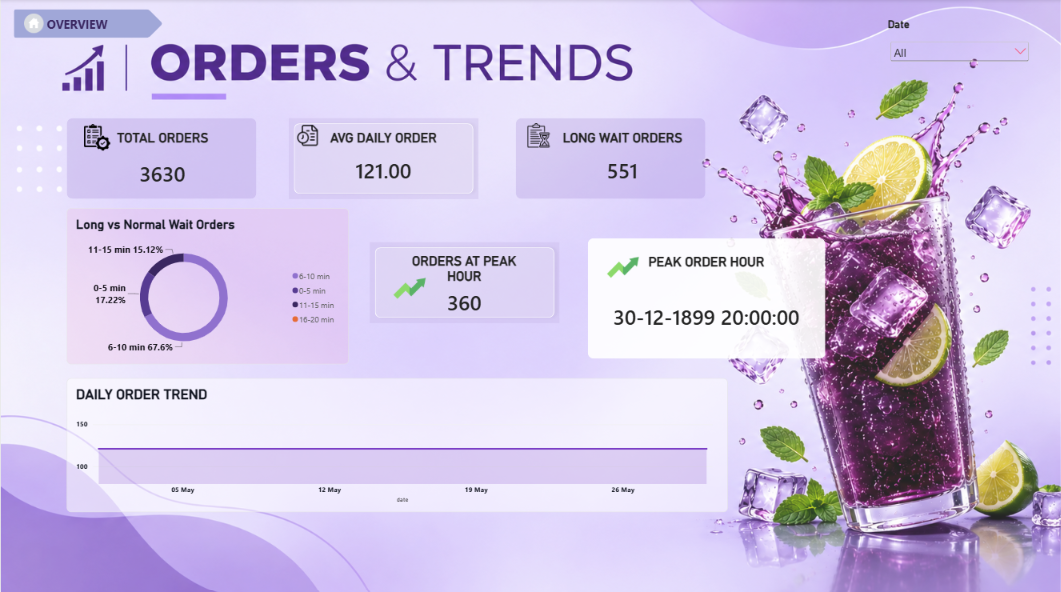

This screenshot's page, from the dashboard's own definition file:
{"tool":"powerbi","page":{"name":"orders&trends","canvas":[1920,1080],"ordinal":1},"visuals":[{"type":"shape","box":[0,0,316.7,2159.1],"z":0},{"type":"shape","box":[1179.9,106.8,356.5,206.3],"z":0},{"type":"image","box":[16.5,144.1,59.7,70],"z":1000},{"type":"textbox","box":[82.3,166.7,224.4,47.3],"z":2000},{"type":"actionButton","title":"button - overview","box":[1.8,148.6,317,62],"z":3000},{"type":"image","box":[10.3,20.6,144.1,92.6],"z":4000},{"type":"textbox","box":[162.6,20.6,144.1,92.6],"z":5000},{"type":"image","box":[65.6,820,150,167.8],"z":6000},{"type":"textbox","box":[82.3,232.6,234.6,51.5],"z":7000},{"type":"image","box":[22.6,218.2,47.3,65.9],"z":8000},{"type":"image","box":[16.5,302.6,59.7,47.3],"z":9000},{"type":"image","box":[22.6,376.7,45.3,53.5],"z":10000},{"type":"image","box":[16.5,448.7,61.7,49.4],"z":11000},{"type":"image","box":[22.6,535.2,47.3,51.5],"z":12000},{"type":"image","box":[2.1,599,86.4,65.9],"z":13000},{"type":"image","box":[8.2,671,67.9,49.4],"z":14000},{"type":"image","box":[12.3,753.3,59,45],"z":15000},{"type":"textbox","box":[82.3,310.8,255.2,59.7],"z":16000},{"type":"textbox","box":[82.3,384.9,255.2,45.3],"z":17000},{"type":"textbox","box":[82.3,463.1,265.5,35],"z":18000},{"type":"textbox","box":[82,540,226,48],"z":19000},{"type":"textbox","box":[82.2,617.8,212.2,53.3],"z":20000},{"type":"textbox","box":[82.2,685.6,152.2,44.4],"z":21000},{"type":"textbox","box":[82.5,753.9,223.8,38.5],"z":22000},{"type":"lineChart","title":"DAILY ORDER TREND","fields":{"Y":["qsr_order.Total Order"],"Category":["qsr_order.date"]},"box":[358.3,369.2,1085.8,403.6],"z":23000},{"type":"image","box":[1536.4,0,383.6,376.4],"z":24000},{"type":"slicer","title":"Date","fields":{"Values":["qsr_order.date"]},"box":[1274,7.2,260.6,97.7],"z":25000},{"type":"textbox","box":[334.8,19.9,763.7,61.5],"z":26000},{"type":"shape","box":[347.5,105,356.5,206.3],"z":27000},{"type":"shape","box":[765.5,105,356.5,206.3],"z":28000},{"type":"cardVisual","title":"TOTAL ORDERS","fields":{"Data":["Sum(qsr_operations qsr_hourly_analysis.total_orders)"]},"box":[419.8,139.9,209.9,157.4],"z":29000},{"type":"cardVisual","title":"AVG DAILY ORDER","fields":{"Data":["qsr_order.Average Daily Orders"]},"box":[828.2,136.7,228.5,142.6],"z":30000}]}

Visuals, with their boxes in screenshot pixels (x1, y1, x2, y2), scaled from the page's 1920x1080 canvas onto the 1061x592 screenshot:
shape: select_region(0, 0, 175, 591)
shape: select_region(652, 59, 849, 172)
image: select_region(9, 79, 42, 117)
textbox: select_region(45, 91, 169, 117)
"button - overview" actionButton: select_region(1, 81, 176, 115)
image: select_region(6, 11, 85, 62)
textbox: select_region(90, 11, 169, 62)
image: select_region(36, 449, 119, 541)
textbox: select_region(45, 127, 175, 156)
image: select_region(12, 120, 39, 156)
image: select_region(9, 166, 42, 192)
image: select_region(12, 206, 38, 236)
image: select_region(9, 246, 43, 273)
image: select_region(12, 293, 39, 322)
image: select_region(1, 328, 49, 364)
image: select_region(5, 368, 42, 395)
image: select_region(7, 413, 39, 438)
textbox: select_region(45, 170, 187, 203)
textbox: select_region(45, 211, 187, 236)
textbox: select_region(45, 254, 192, 273)
textbox: select_region(45, 296, 170, 322)
textbox: select_region(45, 339, 163, 368)
textbox: select_region(45, 376, 130, 400)
textbox: select_region(46, 413, 169, 434)
"DAILY ORDER TREND" lineChart: select_region(198, 202, 798, 424)
image: select_region(849, 0, 1060, 206)
"Date" slicer: select_region(704, 4, 848, 58)
textbox: select_region(185, 11, 607, 45)
shape: select_region(192, 58, 389, 171)
shape: select_region(423, 58, 620, 171)
"TOTAL ORDERS" cardVisual: select_region(232, 77, 348, 163)
"AVG DAILY ORDER" cardVisual: select_region(458, 75, 584, 153)
